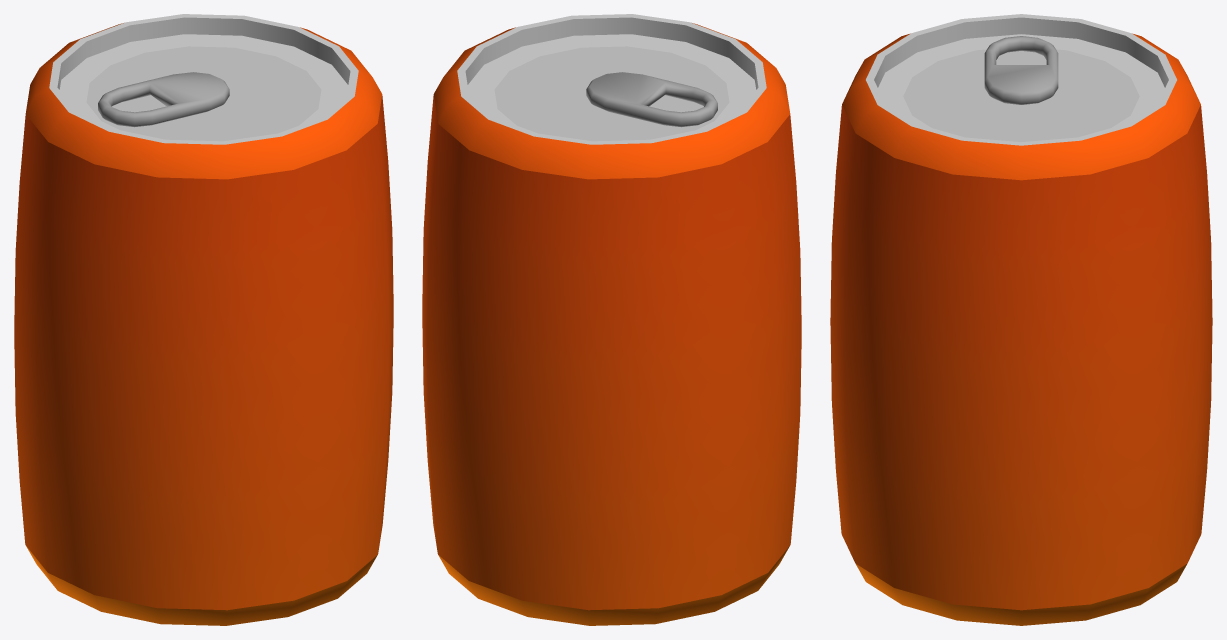
The model's file is Coke_V1_01.fbx.
3 views of the same model, side by side, from view 1: azimuth 30°, elevation 25°; view 2: azimuth 150°, elevation 25°; view 3: azimuth 270°, elevation 25° (orthographic).
Parts seen in each view (by area): view 1: Coke_V1_01; view 2: Coke_V1_01; view 3: Coke_V1_01.
Part boxes in pixels (bbox=[...]): Coke_V1_01: bbox=[14, 14, 393, 625]; Coke_V1_01: bbox=[422, 14, 801, 625]; Coke_V1_01: bbox=[830, 14, 1212, 625].
Size of the model in its own units: 22.07 by 30.74 by 22.07.
